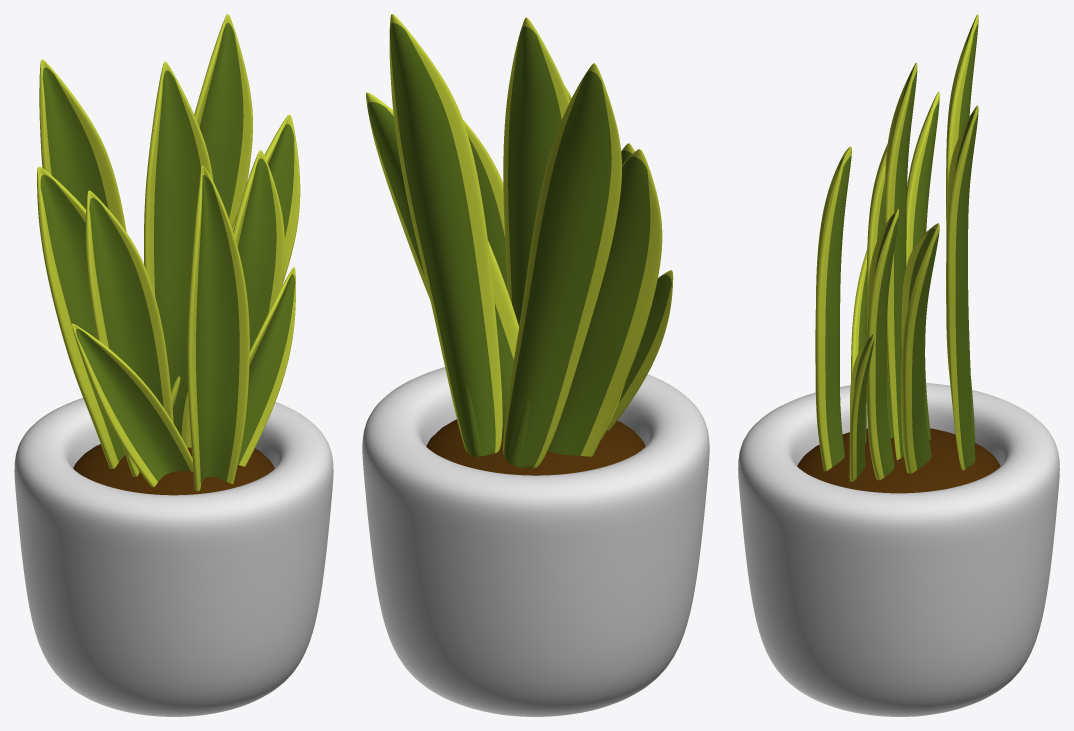
Rendered from Snake Plant.fbx.
3 views of the same model, side by side, from view 1: azimuth 30°, elevation 25°; view 2: azimuth 150°, elevation 25°; view 3: azimuth 270°, elevation 25° (orthographic). The views are drawn at different scales.
Parts seen in each view (by area): view 1: Cylinder, Plane.008, Plane.001, Plane.017, Plane.003, Plane.005, Plane.006, Plane.002, Plane.004, Sphere, Plane.007; view 2: Cylinder, Plane.001, Plane.005, Plane.017, Plane.007, Sphere, Plane.006, Plane.002; view 3: Cylinder, Plane.001, Plane.008, Plane.017, Plane.007, Sphere, Plane.002, Plane.005, Plane.004, Plane.003, Plane.006.
Boxes of the visible parts, left/top/right/bottom form: Cylinder: left=14, top=398, right=333, bottom=716; Plane.008: left=187, top=165, right=249, bottom=491; Plane.001: left=39, top=14, right=252, bottom=231; Plane.017: left=144, top=61, right=213, bottom=447; Plane.003: left=85, top=190, right=173, bottom=476; Plane.005: left=37, top=166, right=125, bottom=468; Plane.006: left=72, top=323, right=193, bottom=487; Plane.002: left=233, top=150, right=284, bottom=350; Plane.004: left=238, top=267, right=295, bottom=466; Sphere: left=73, top=444, right=274, bottom=495; Plane.007: left=171, top=114, right=300, bottom=407; Cylinder: left=362, top=367, right=709, bottom=716; Plane.001: left=389, top=14, right=621, bottom=468; Plane.005: left=547, top=149, right=662, bottom=456; Plane.017: left=503, top=17, right=570, bottom=326; Plane.007: left=366, top=92, right=518, bottom=438; Sphere: left=426, top=419, right=645, bottom=475; Plane.006: left=607, top=270, right=673, bottom=430; Plane.002: left=463, top=120, right=507, bottom=291; Cylinder: left=738, top=383, right=1059, bottom=716; Plane.001: left=946, top=14, right=978, bottom=470; Plane.008: left=815, top=147, right=851, bottom=470; Plane.017: left=884, top=62, right=917, bottom=460; Plane.007: left=901, top=223, right=939, bottom=473; Sphere: left=797, top=428, right=1000, bottom=493; Plane.002: left=866, top=208, right=898, bottom=480; Plane.005: left=906, top=91, right=939, bottom=440; Plane.004: left=849, top=334, right=874, bottom=481; Plane.003: left=866, top=144, right=893, bottom=438; Plane.006: left=851, top=249, right=867, bottom=442.
Bounding box in the file's own units: 110 × 236 × 110.
